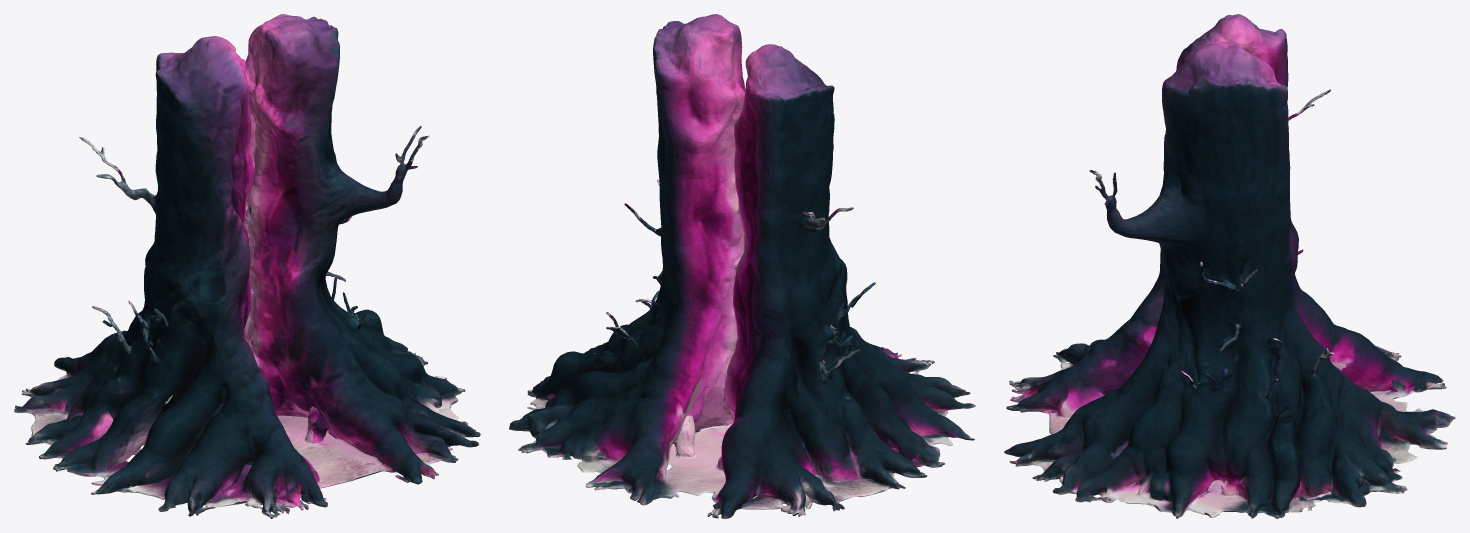
Rendered from root-southwest-generated-2026-04-19T17-19-22-220Z.high.glb.
3 renders of one model, left to right at view 1: azimuth 30°, elevation 25°; view 2: azimuth 150°, elevation 25°; view 3: azimuth 270°, elevation 25°, orthographic.
Visible parts, largest first — view 1: temp_mesh.ply; view 2: temp_mesh.ply; view 3: temp_mesh.ply.
Part boxes in pixels (<box>): temp_mesh.ply: <box>14,14,480,518</box>; temp_mesh.ply: <box>509,14,975,518</box>; temp_mesh.ply: <box>1004,14,1455,518</box>.
Bounding box in the file's own units: 1.97 × 1.9 × 1.95.
Materials: 1 (1 with a texture image).
